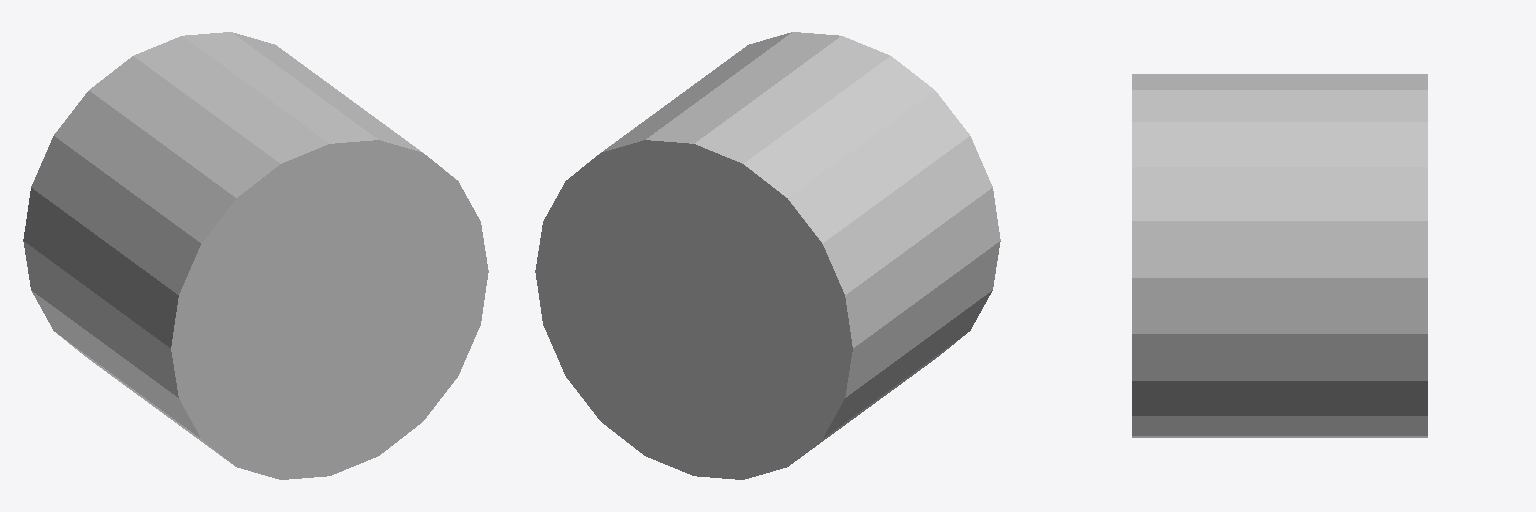
Rendered from Resaltado_Nervio_occipital_mayor_I.obj.
3 views of the same model, side by side, from view 1: azimuth 30°, elevation 25°; view 2: azimuth 150°, elevation 25°; view 3: azimuth 270°, elevation 25° (orthographic).
Parts seen in each view (by area): view 1: polySurface43 polySurface23 Marcadores1; view 2: polySurface43 polySurface23 Marcadores1; view 3: polySurface43 polySurface23 Marcadores1.
Part boxes in pixels (left/top/right/bottom): polySurface43 polySurface23 Marcadores1: left=23, top=32, right=488, bottom=479; polySurface43 polySurface23 Marcadores1: left=535, top=32, right=1000, bottom=479; polySurface43 polySurface23 Marcadores1: left=1132, top=74, right=1427, bottom=437.
Size of the model in its own units: 0.0375 by 0.0375 by 0.0302.